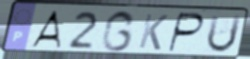2: (66, 10, 100, 50)
A: (27, 10, 62, 50)
G: (99, 9, 137, 54)
K: (137, 12, 170, 52)
P: (165, 12, 206, 55)
U: (204, 14, 244, 55)
